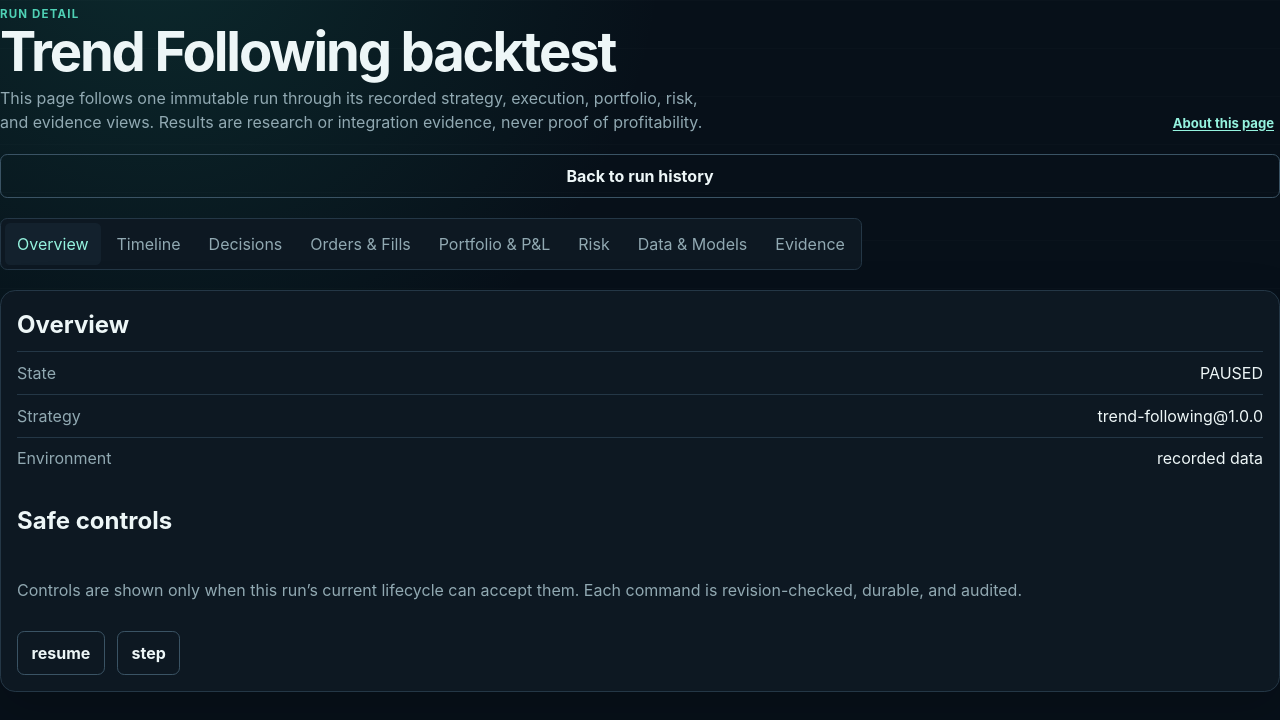
Test: RunDetailPage › keeps empty evidence explicit and exposes only advanced reproducibility identifiers
Expected: the heading "Trend Following backtest" is shown, [0,24,720,78]
Expected: the heading "Safe controls" is shown, [17,506,172,535]
Click the tab "Portfolio & P&L" at (494, 244), box [427,223,562,265]
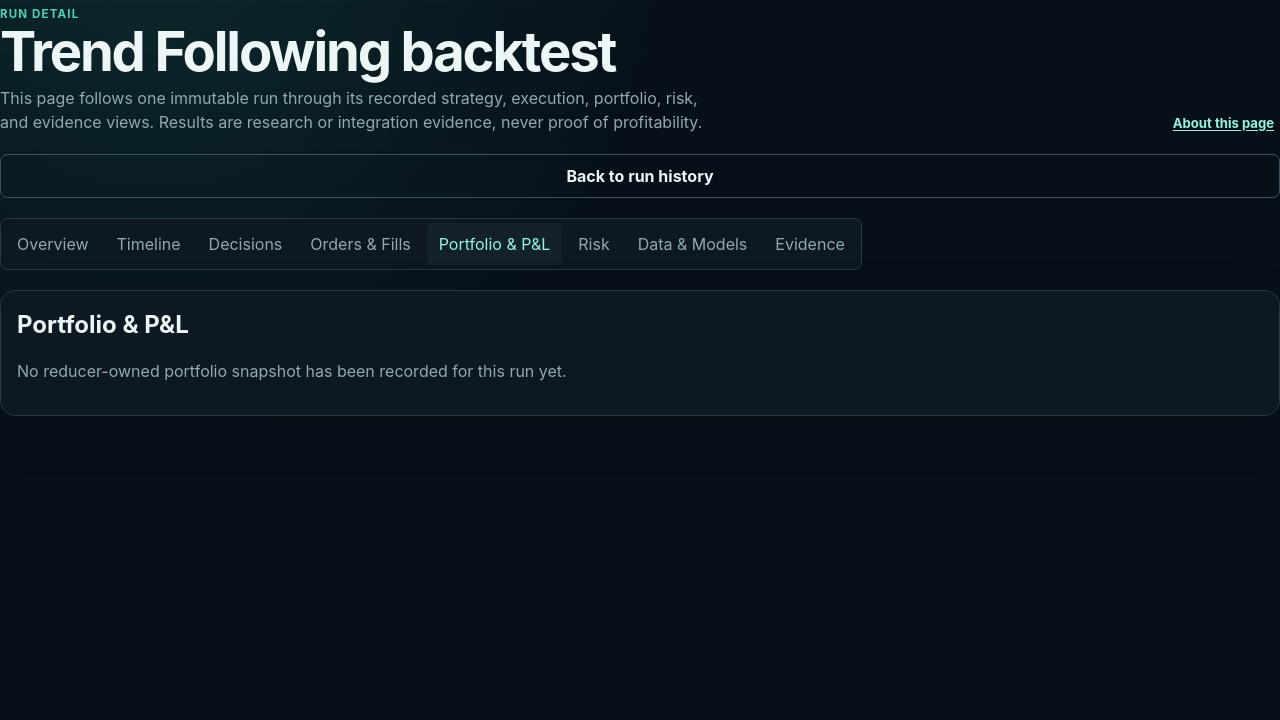
Now the text "No reducer-owned portfolio snapshot" is shown, box [17,361,567,381]
Click the tab "Timeline" at (149, 244), box [104,223,193,265]
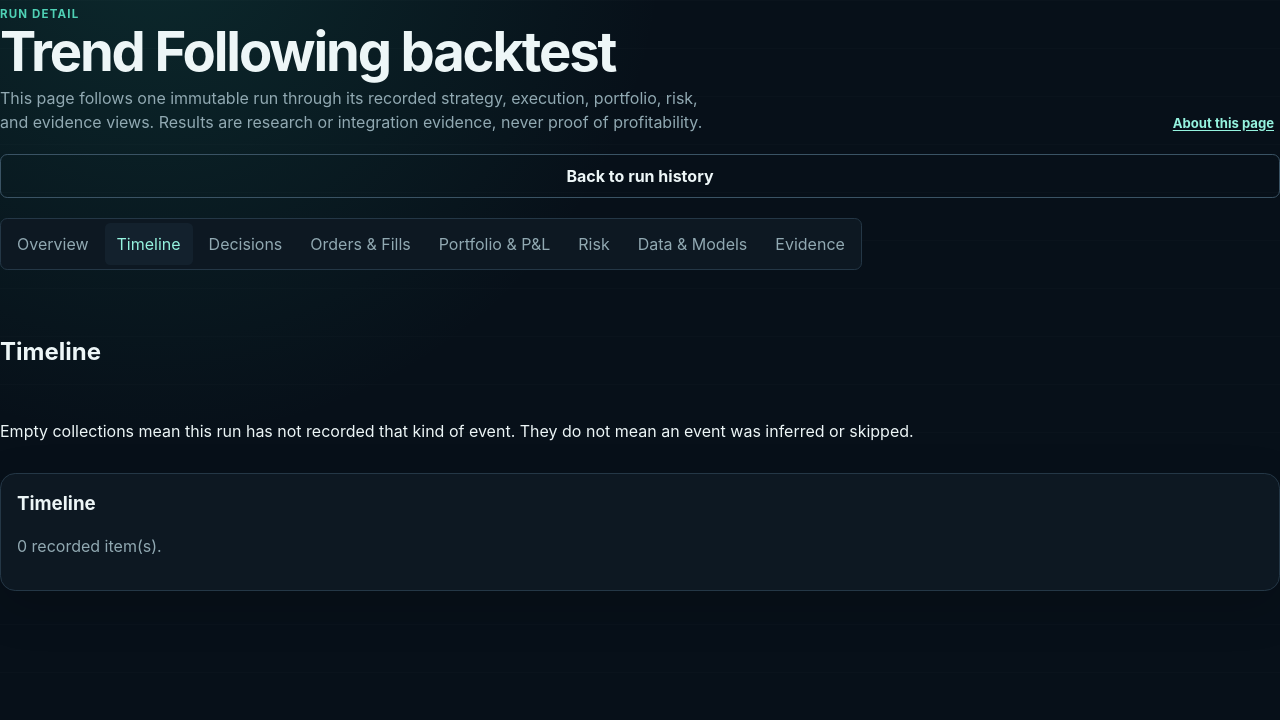
Now the text "0 recorded item(s)." is shown, box [17,536,162,556]
Click the tab "Orders & Fills" at (360, 244), box [298,223,423,265]
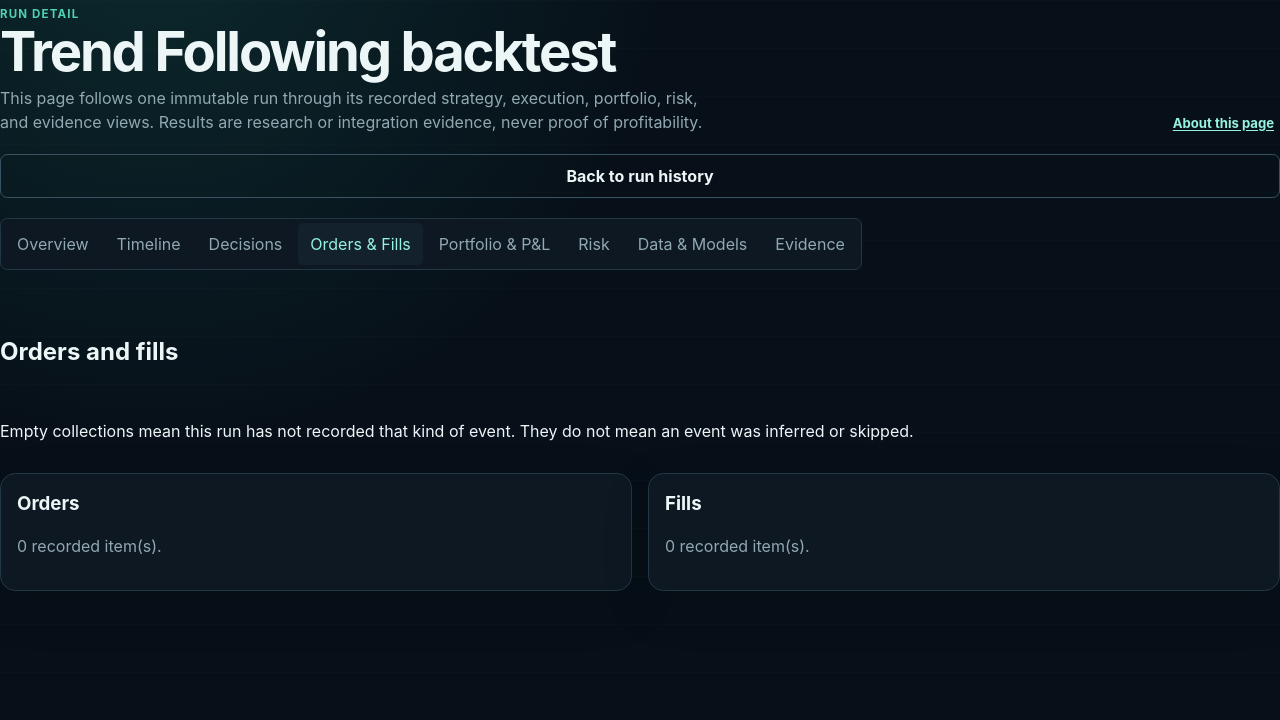
Now the text "0 recorded item(s)." is shown 2 times, box [17,536,162,556]; [665,536,810,556]
Click the tab "Evidence" at (810, 244), box [763,223,857,265]
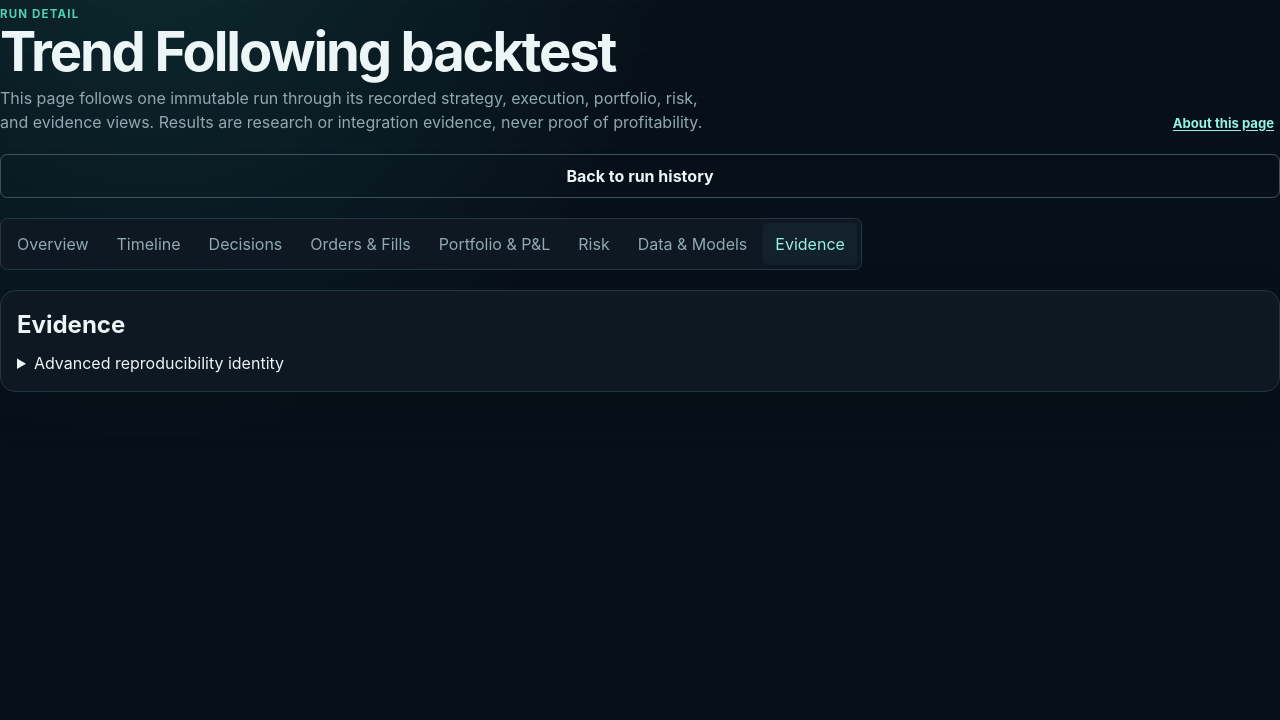
Now the heading "Advanced reproducibility identity" is shown, box [34,353,284,373]
